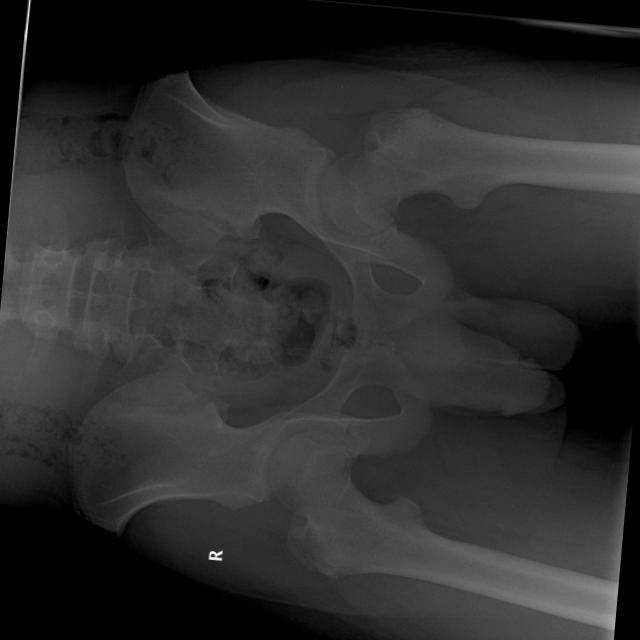normal-left: (321, 106, 585, 232)
normal-right: (270, 432, 532, 606)
